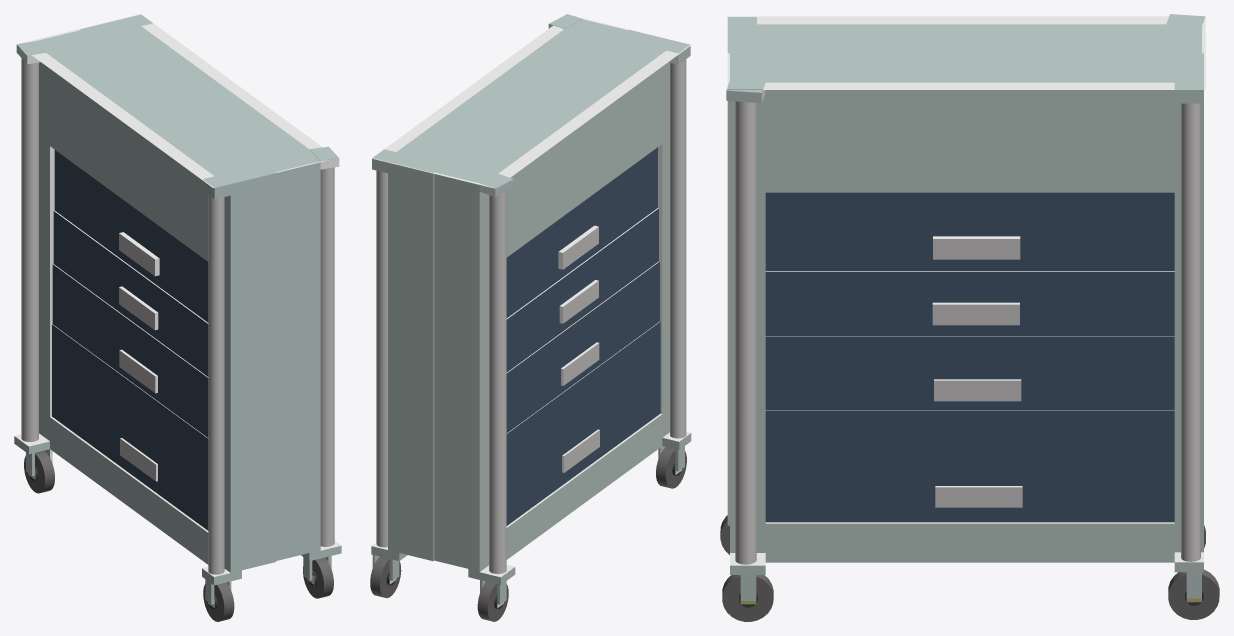
The model's file is cart.dae.
The picture shows the model from 3 angles, left to right: view 1: azimuth 30°, elevation 25°; view 2: azimuth 150°, elevation 25°; view 3: azimuth 270°, elevation 25°; orthographic projection. The views are drawn at different scales.
Visible parts, largest first — view 1: SketchUp (×17); view 2: SketchUp (×17); view 3: SketchUp (×15).
Part boxes in pixels (x1,y1,x2,y2): SketchUp (×17): (14,14,341,621); SketchUp (×17): (370,14,691,621); SketchUp (×15): (722,14,1219,621).
Size of the model in its own units: 29.37 by 78.51 by 93.14.
